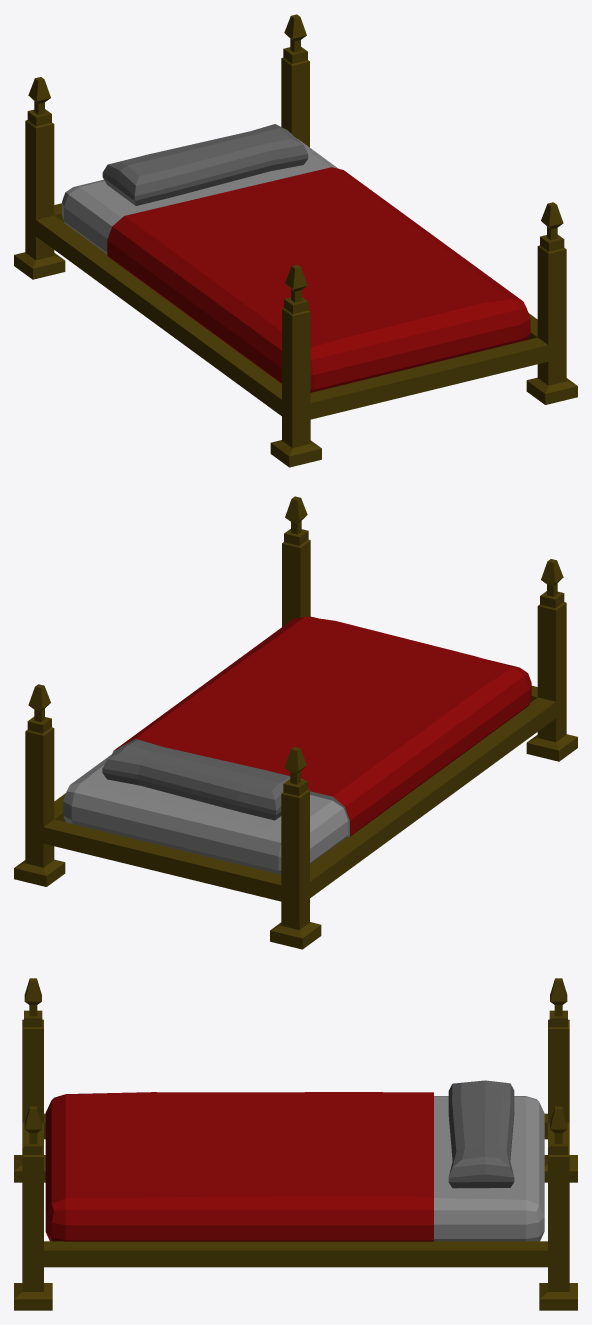
Rendered from Cama.fbx.
3 views of the same model, one above another, from view 1: azimuth 30°, elevation 25°; view 2: azimuth 150°, elevation 25°; view 3: azimuth 270°, elevation 25° (orthographic). The views are drawn at different scales.
Visible parts, largest first — view 1: Colchon_y_Manta, Somier, Almohada; view 2: Colchon_y_Manta, Somier, Almohada; view 3: Colchon_y_Manta, Somier, Almohada.
Part boxes in pixels (x1=…): Colchon_y_Manta: x1=62, y1=138, x2=530, y2=392; Somier: x1=14, y1=14, x2=577, y2=467; Almohada: x1=102, y1=124, x2=308, y2=205; Colchon_y_Manta: x1=63, y1=616, x2=531, y2=874; Somier: x1=14, y1=496, x2=577, y2=949; Almohada: x1=102, y1=738, x2=308, y2=820; Colchon_y_Manta: x1=45, y1=1092, x2=544, y2=1241; Somier: x1=14, y1=978, x2=577, y2=1310; Almohada: x1=448, y1=1080, x2=514, y2=1188.
Bounding box in the file's own units: 2.83 × 1.78 × 4.69.
